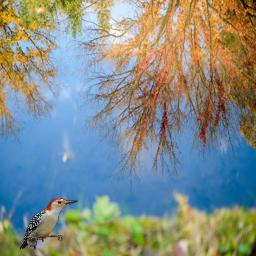Woodpecker: (19, 198, 78, 250)
